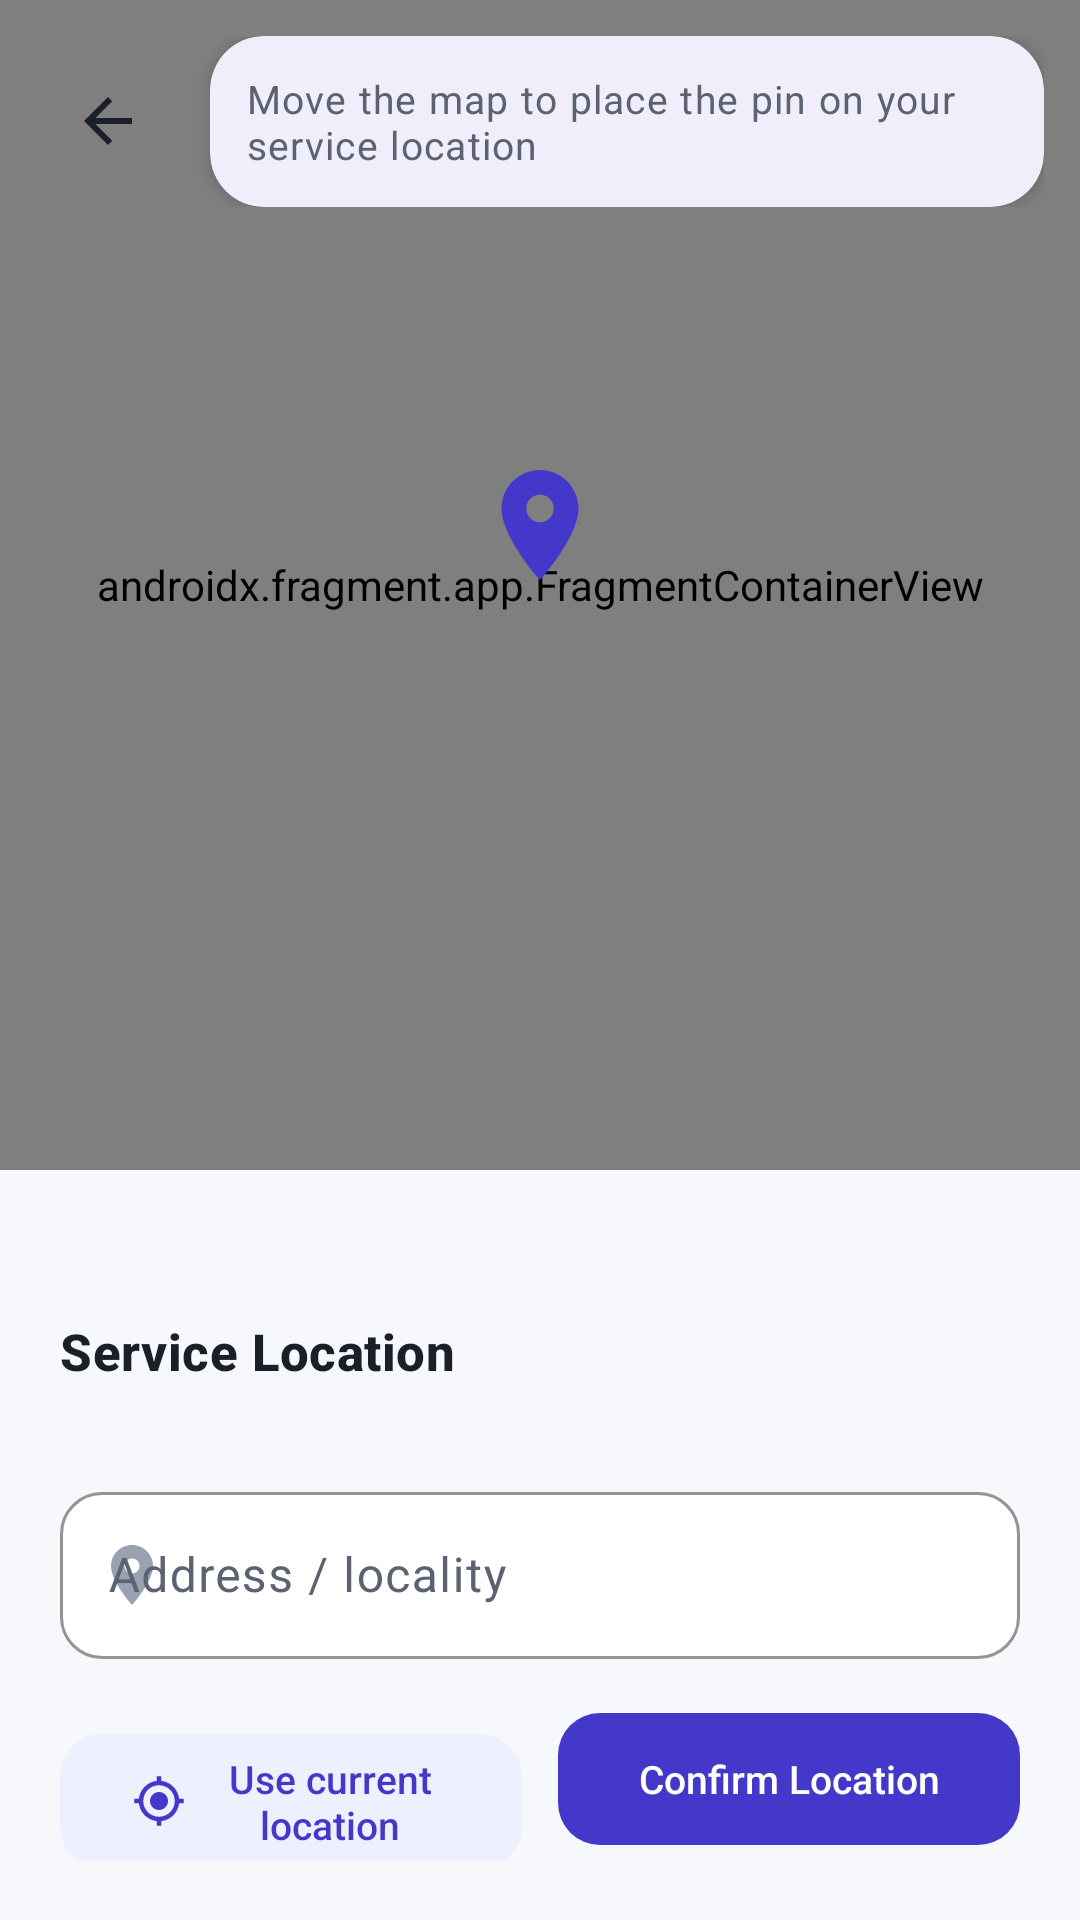

Screen size 1080px×1920px. Icon name, then its box in pixels as (left=x1, top=y1, right=x2, bottom=y2):
Back: (left=84, top=97, right=132, bottom=145)
